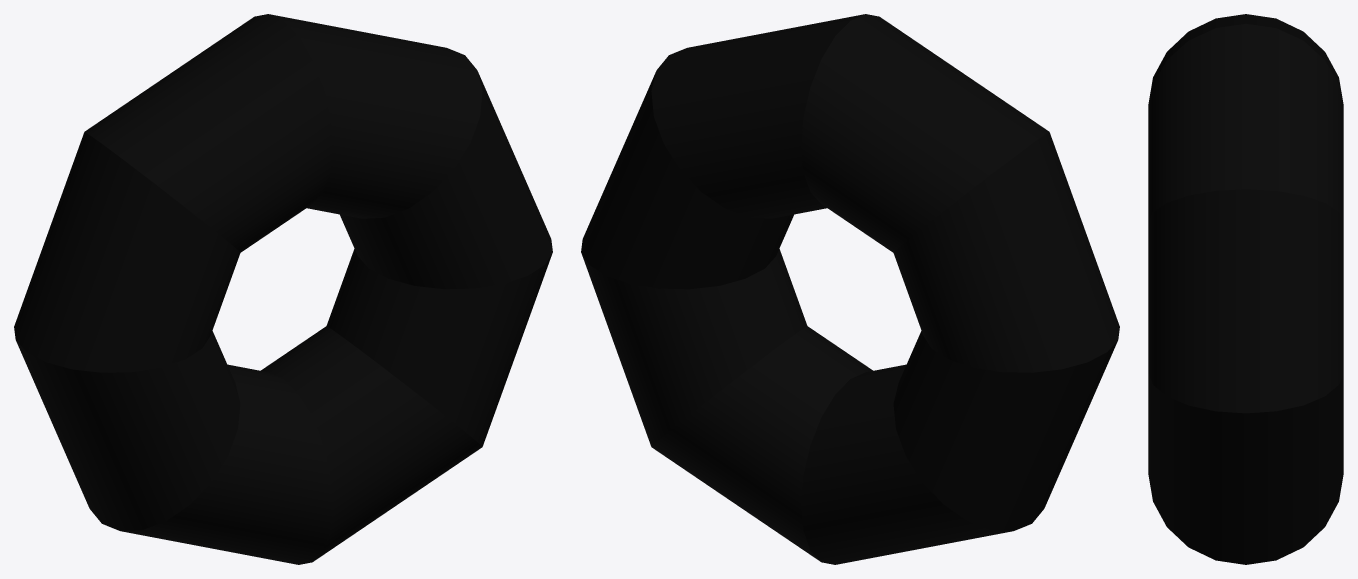
File: centroReloj.obj
The picture shows the model from 3 angles, left to right: view 1: azimuth 30°, elevation 25°; view 2: azimuth 150°, elevation 25°; view 3: azimuth 270°, elevation 25°; orthographic projection.
Visible parts, largest first — view 1: polySurface69 relojAspas:pCube15; view 2: polySurface69 relojAspas:pCube15; view 3: polySurface69 relojAspas:pCube15.
Part boxes in pixels (x1,y1,x2,y2): polySurface69 relojAspas:pCube15: [14, 14, 552, 564]; polySurface69 relojAspas:pCube15: [581, 14, 1119, 564]; polySurface69 relojAspas:pCube15: [1148, 14, 1343, 564].
Bounding box in the file's own units: 0.2394 × 0.2394 × 0.0799.
Materials: 1 (1 with a texture image).
